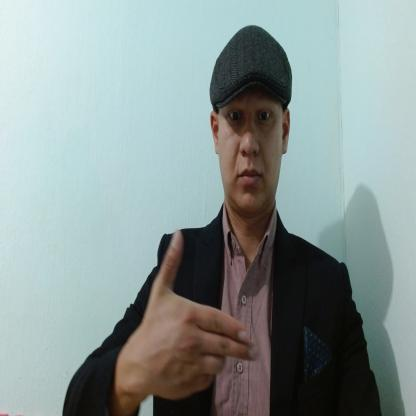H: (144, 230, 258, 401)
